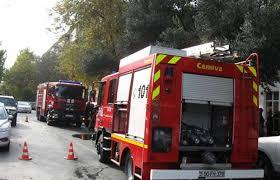Fire-engine: (101, 66, 280, 180), (37, 79, 93, 125)
